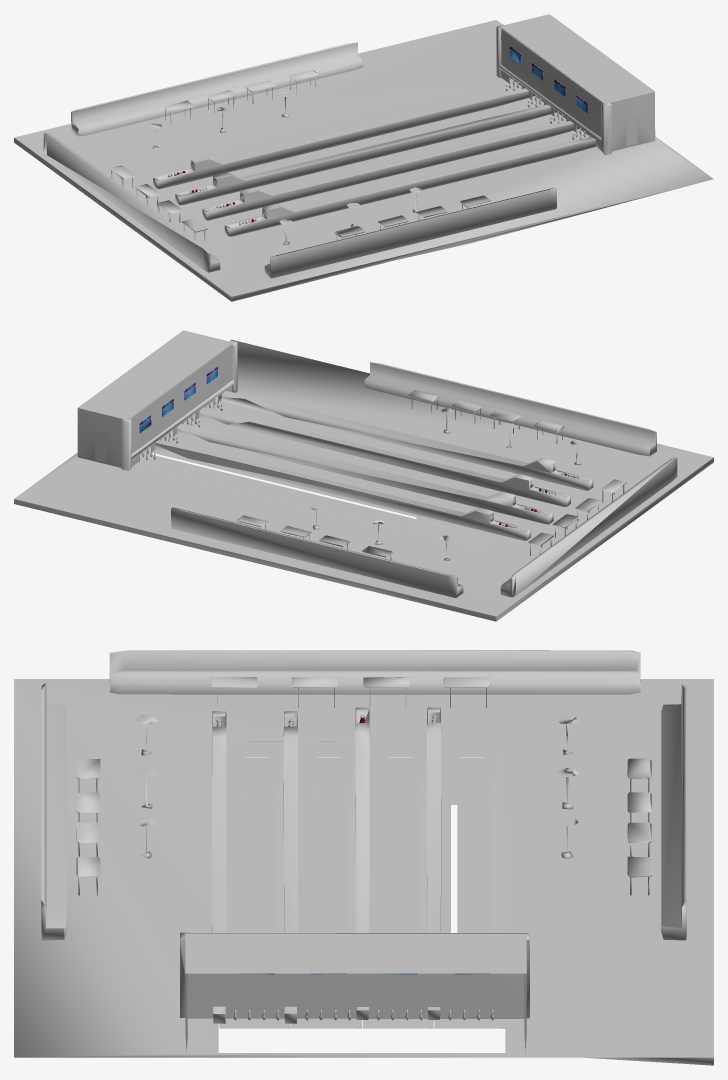
File: bowlingalleyMar.fbx
3 views of the same model, one above another, from view 1: azimuth 30°, elevation 25°; view 2: azimuth 150°, elevation 25°; view 3: azimuth 270°, elevation 25° (orthographic). The views are drawn at different scales.
Parts seen in each view (by area): view 1: box.034, box.001, box.003, box.005, box.008, box.007, box.006, box.004, box.002; view 2: box.034, box.001, box.005, box.002, box.006, box.008, box.007, box.004, box.003; view 3: box.034, box.004, box.005, box.001, box.007, box.008, box.006, box.002, box.003.
Boxes of the visible parts, box(x1,y1,x2,y2) form: box.034: box(14, 20, 713, 301); box.001: box(496, 14, 655, 155); box.003: box(71, 42, 363, 136); box.005: box(153, 79, 528, 180); box.008: box(225, 129, 595, 227); box.007: box(204, 112, 573, 211); box.006: box(176, 96, 550, 194); box.004: box(43, 132, 220, 264); box.002: box(265, 187, 554, 269); box.034: box(14, 339, 713, 621); box.001: box(77, 330, 237, 470); box.005: box(135, 440, 526, 549); box.002: box(364, 362, 655, 462); box.006: box(168, 423, 536, 525); box.008: box(212, 391, 588, 492); box.007: box(190, 407, 566, 509); box.004: box(501, 457, 676, 594); box.003: box(174, 504, 462, 586); box.034: box(14, 673, 713, 1065); box.004: box(109, 650, 640, 707); box.005: box(427, 708, 505, 1028); box.001: box(180, 932, 529, 1052); box.007: box(283, 716, 361, 1028); box.008: box(212, 712, 290, 1028); box.006: box(355, 709, 433, 1028); box.002: box(41, 683, 157, 939); box.003: box(556, 684, 686, 937).
Size of the model in its own units: 1001 by 110 by 782.
